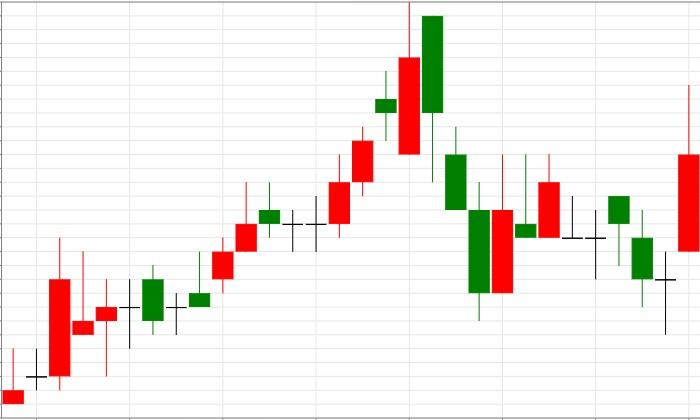three_black_crows_fall: (282, 2, 489, 321)
